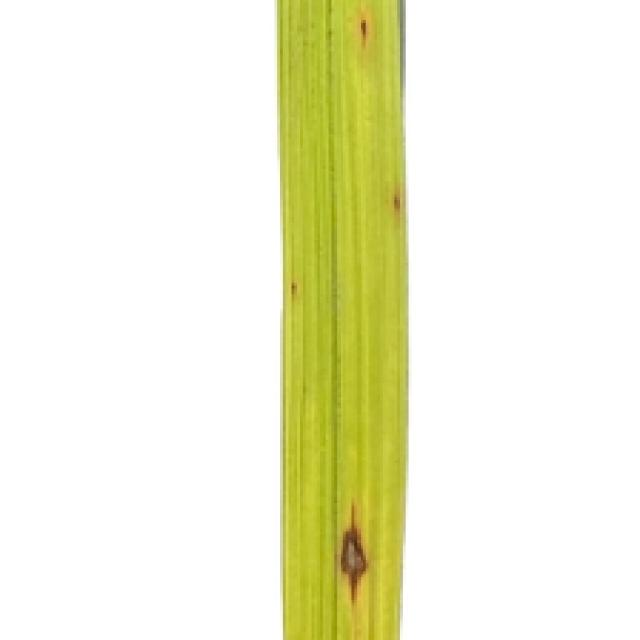Rice___Rice_Blast: (273, 0, 409, 637)
